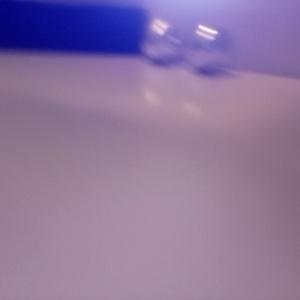alive_ball: (183, 21, 231, 73), (138, 18, 182, 64)
